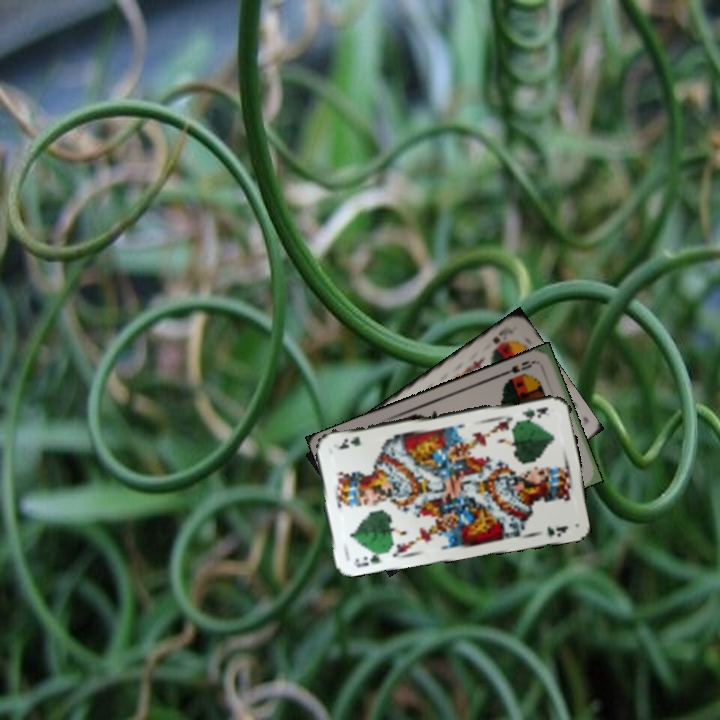GK: (349, 548, 387, 570), (516, 403, 551, 423)
SK: (488, 325, 516, 346)
SO: (499, 356, 538, 378)
